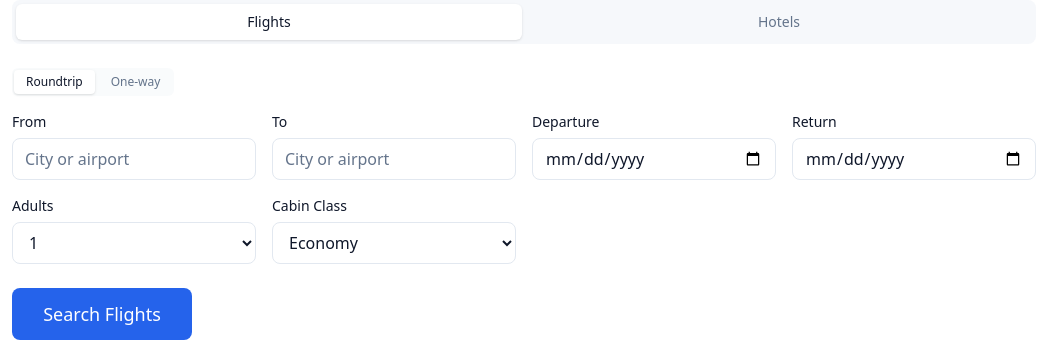
Test: SearchForm › hides return date for one-way
Click the tab "One-way" at (136, 82), box [99,70,172,94]
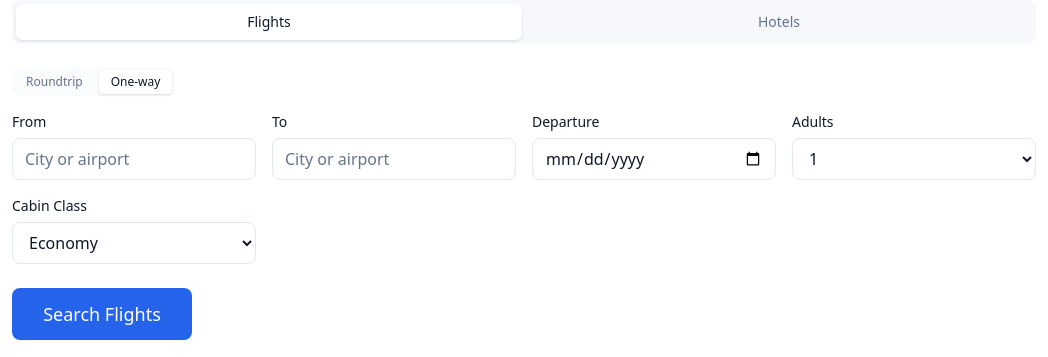
Result: the label labelled "Return" is gone
